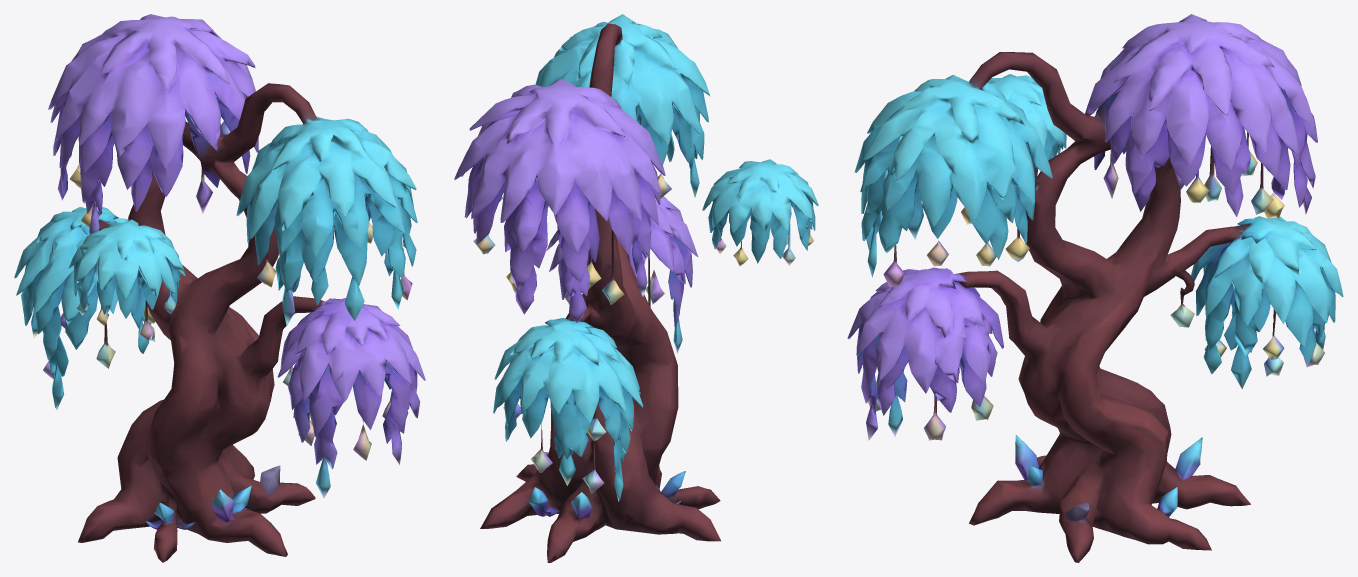
File: ioluminescent Celestial Willow Tree.glb
3 renders of one model, left to right at view 1: azimuth 30°, elevation 25°; view 2: azimuth 150°, elevation 25°; view 3: azimuth 270°, elevation 25°, orthographic. The views are drawn at different scales.
Parts seen in each view (by area): view 1: Mesh::generatedModels/B9yU9Dueystnk3wEDa6Y.gltf; view 2: Mesh::generatedModels/B9yU9Dueystnk3wEDa6Y.gltf; view 3: Mesh::generatedModels/B9yU9Dueystnk3wEDa6Y.gltf.
Boxes of the visible parts, left/top/right/bottom form: Mesh::generatedModels/B9yU9Dueystnk3wEDa6Y.gltf: left=14, top=14, right=425, bottom=562; Mesh::generatedModels/B9yU9Dueystnk3wEDa6Y.gltf: left=454, top=14, right=818, bottom=562; Mesh::generatedModels/B9yU9Dueystnk3wEDa6Y.gltf: left=847, top=14, right=1343, bottom=562.
Size of the model in its own units: 0.6877 by 1 by 0.917.
Materials: 1 (1 with a texture image).
